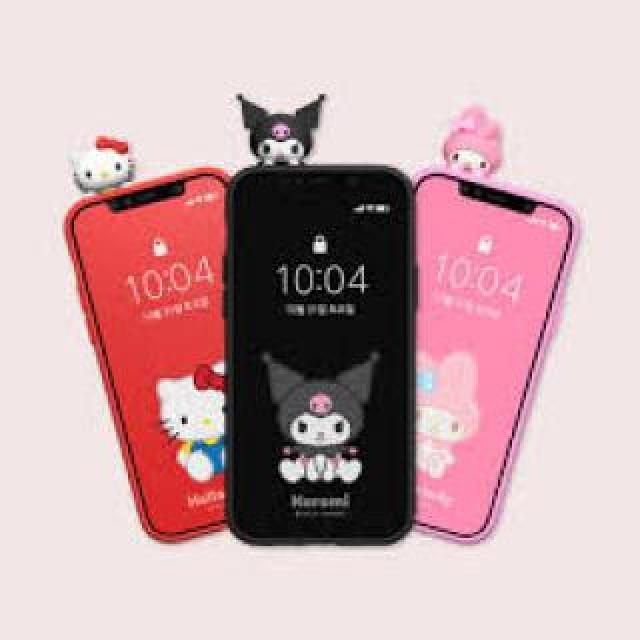smart phone: (228, 142, 417, 548), (60, 135, 238, 543), (415, 178, 545, 584)
